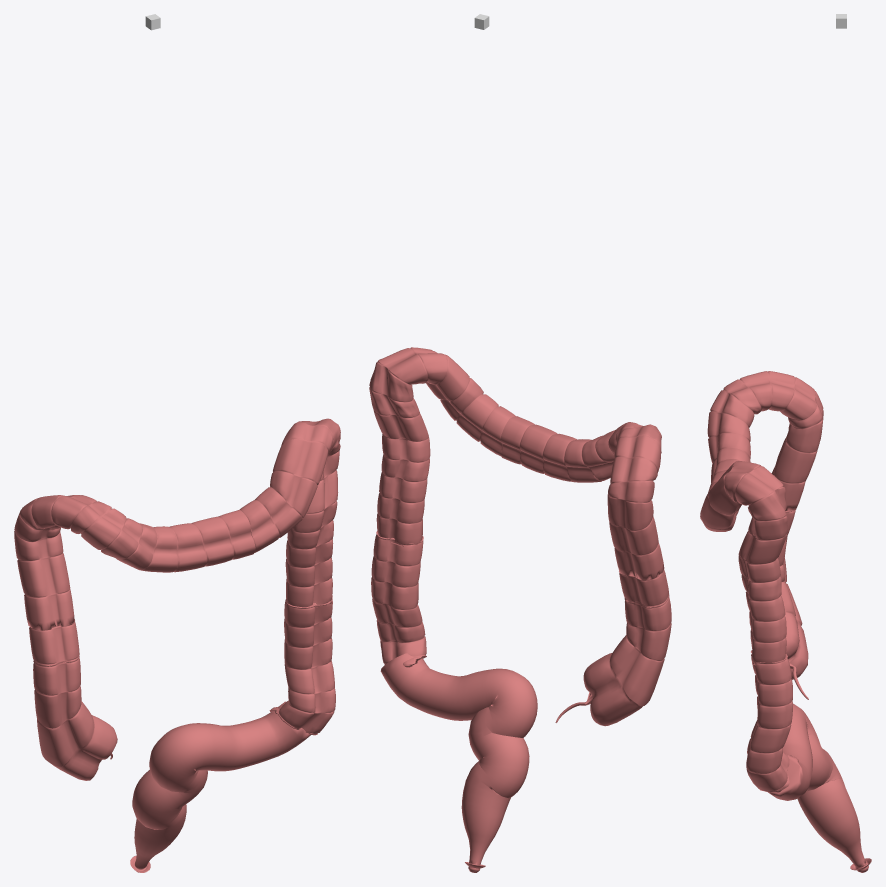
File: grueso.gltf
The picture shows the model from 3 angles, left to right: view 1: azimuth 30°, elevation 25°; view 2: azimuth 150°, elevation 25°; view 3: azimuth 270°, elevation 25°; orthographic projection.
Visible parts, largest first — view 1: Mesh_108, Mesh_107, Mesh_106, Mesh_105; view 2: Mesh_108, Mesh_107, Mesh_106, Mesh_105; view 3: Mesh_108, Mesh_107, Mesh_105, Mesh_106.
Boxes of the visible parts, <box> form: Mesh_108: <box>14,418,340,630</box>; Mesh_107: <box>130,701,310,872</box>; Mesh_106: <box>28,619,117,780</box>; Mesh_105: <box>269,595,335,735</box>; Mesh_108: <box>369,347,664,580</box>; Mesh_107: <box>380,653,537,872</box>; Mesh_106: <box>555,569,671,726</box>; Mesh_105: <box>371,531,426,667</box>; Mesh_108: <box>700,371,823,665</box>; Mesh_107: <box>768,703,871,872</box>; Mesh_105: <box>746,650,798,792</box>; Mesh_106: <box>749,510,808,699</box>.
Size of the model in its own units: 62.84 by 172 by 31.17.
